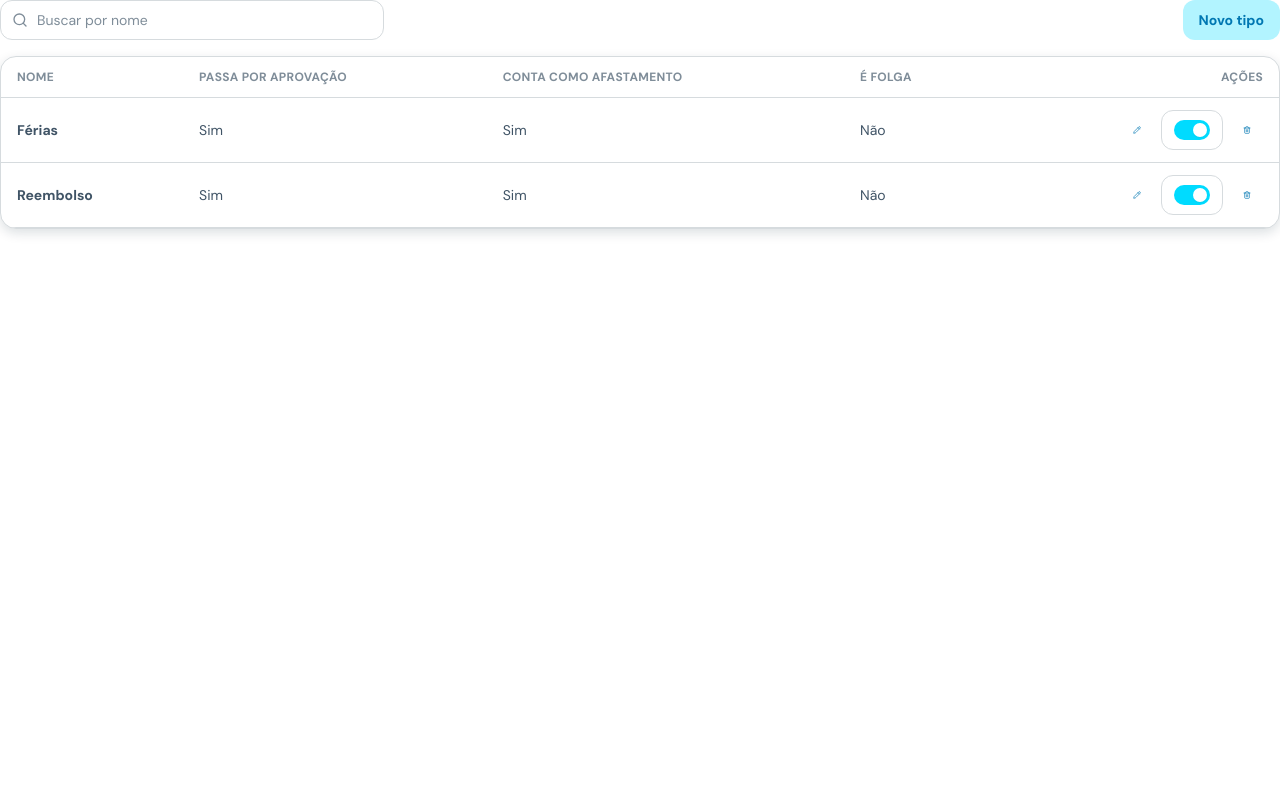
Test: TiposSolicitacaoAdminPage — formulário › hides the field editor until "Coleta dados via formulário" is checked
What coordinates should you click on to do the following:
click the button "Novo tipo"
I would click on:
 (1231, 20)
Its box is [1182, 0, 1279, 40].
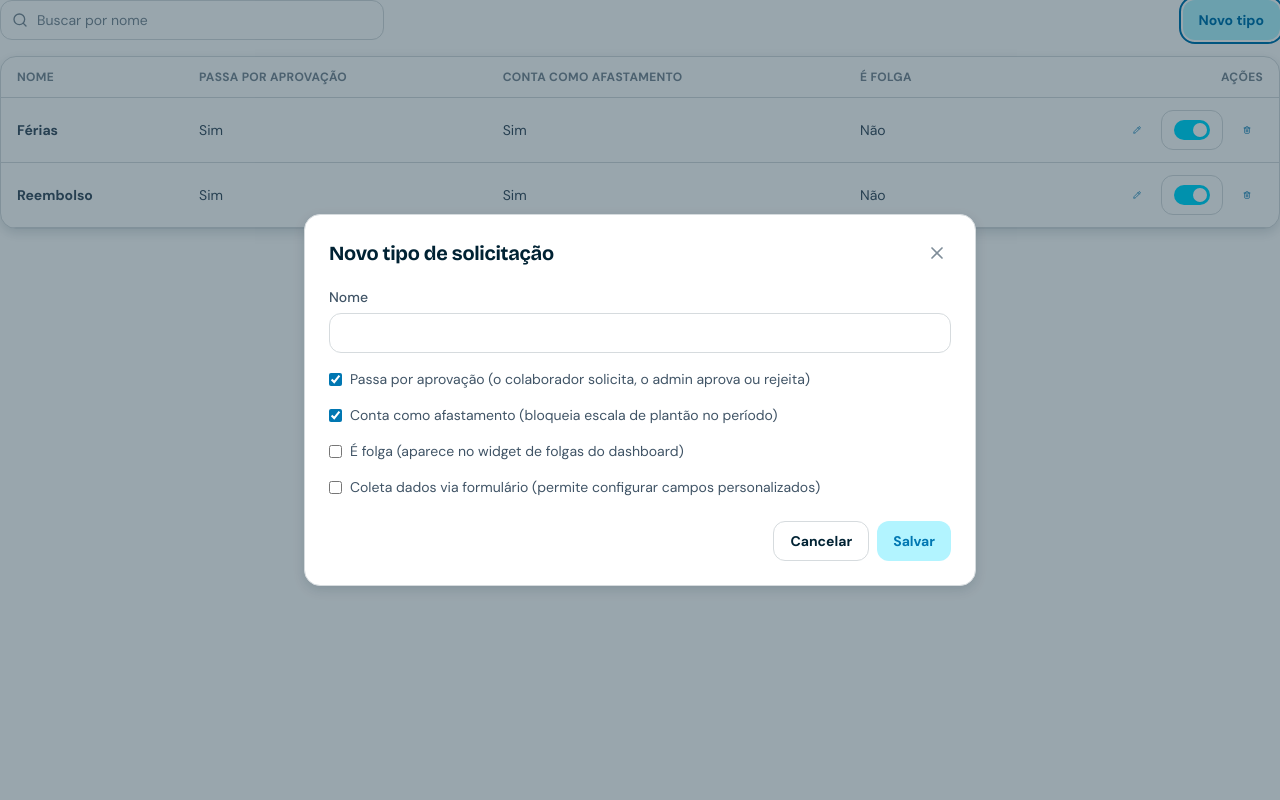
Expected: the button "Adicionar campo" is not shown
What coordinates should you click on to do the following:
click the checkbox labelled "Coleta dados via formulário (permite configurar campos personalizados)"
I would click on:
 (336, 487)
Its box is [329, 480, 342, 494].
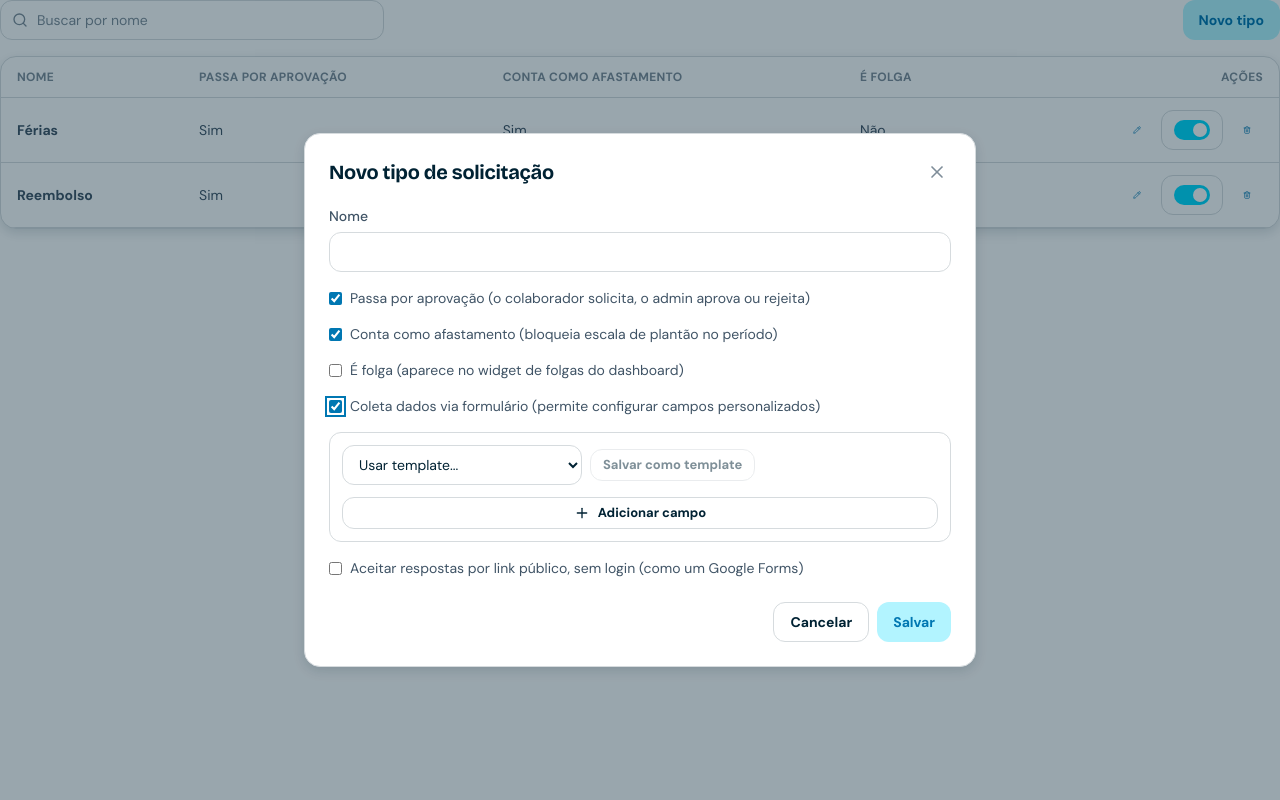
Expected: the button "Adicionar campo" is shown, [342, 497, 938, 529]
